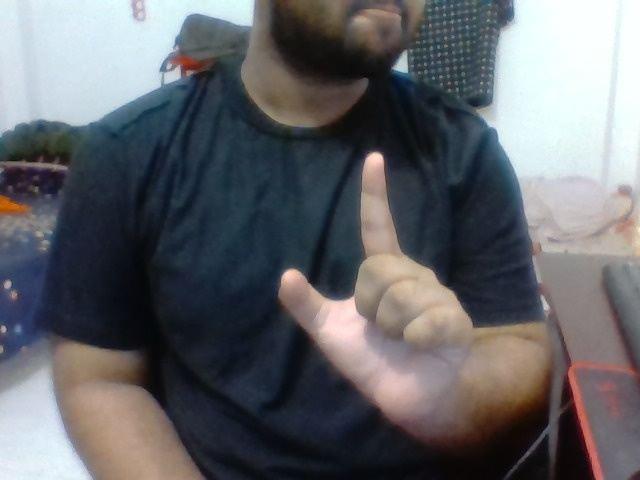J: (265, 141, 486, 413)
